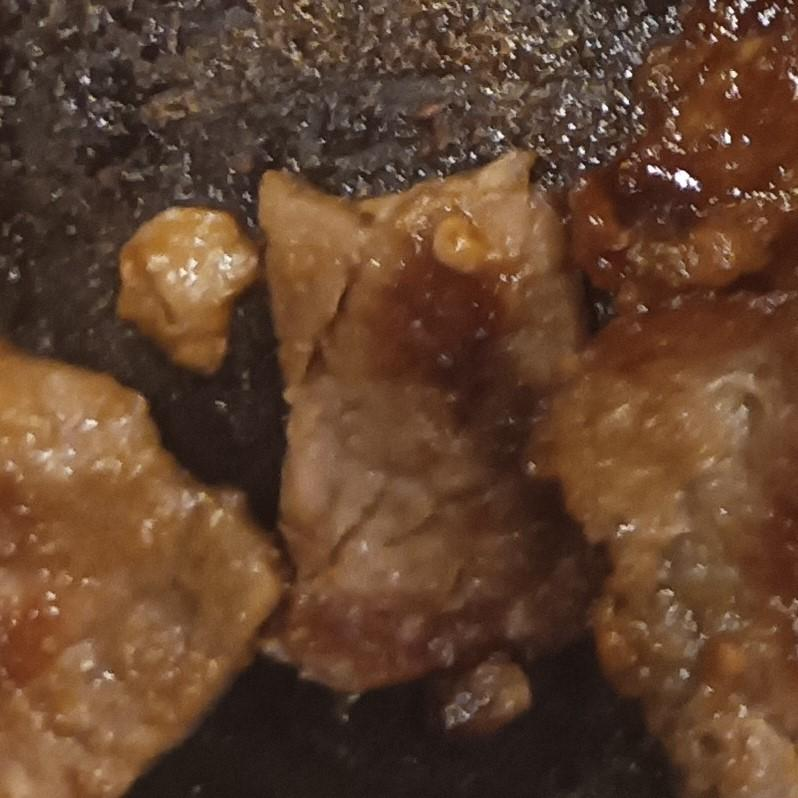Well-Cooked: (257, 152, 586, 695), (0, 335, 284, 797), (552, 289, 797, 797), (115, 205, 262, 376)
